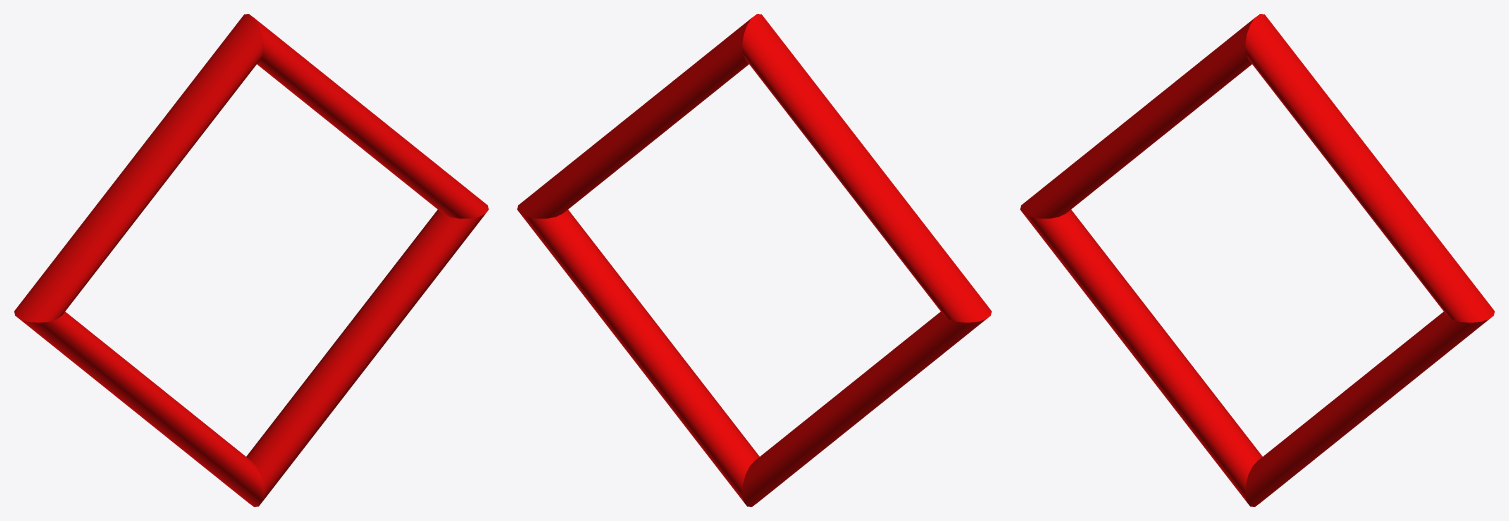
File: Quad.fbx
3 renders of one model, left to right at view 1: azimuth 30°, elevation 25°; view 2: azimuth 150°, elevation 25°; view 3: azimuth 330°, elevation 25°, orthographic.
Visible parts, largest first — view 1: Triangle; view 2: Triangle; view 3: Triangle.
Boxes of the visible parts, x1,y1,x2,y2 form: Triangle: [14, 14, 488, 506]; Triangle: [517, 14, 991, 506]; Triangle: [1020, 14, 1494, 506].
Bounding box in the file's own units: 10.98 × 10.98 × 0.9945.
